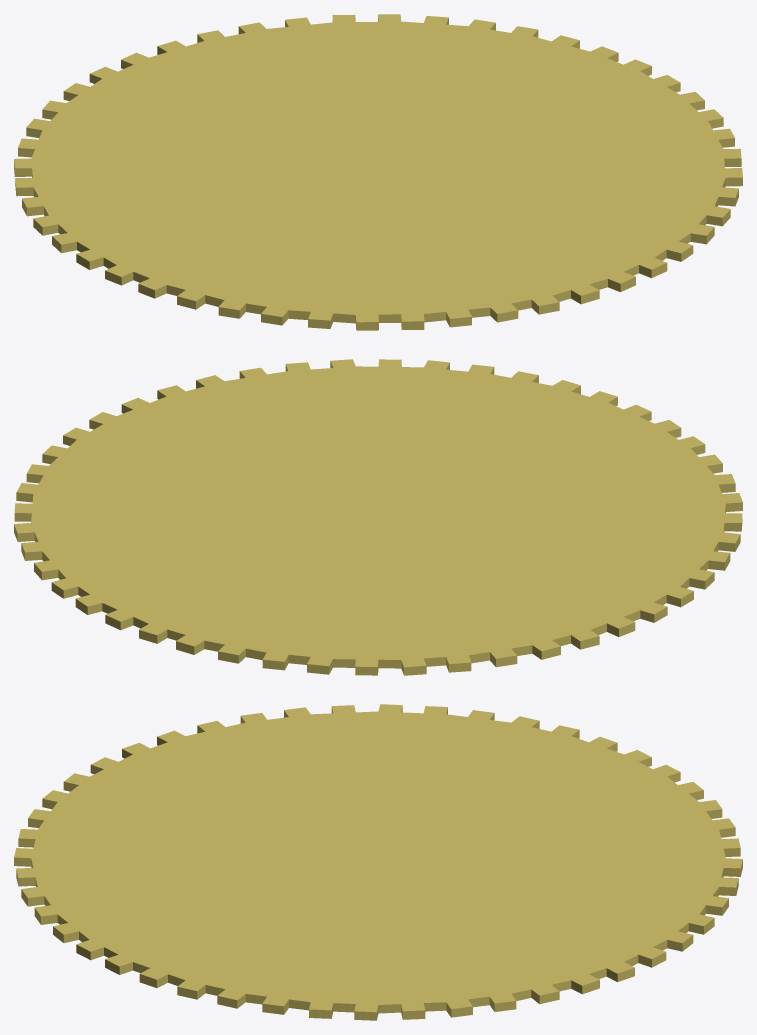
The model's file is gia.obj.
The picture shows the model from 3 angles, top to bottom: view 1: azimuth 30°, elevation 25°; view 2: azimuth 150°, elevation 25°; view 3: azimuth 270°, elevation 25°; orthographic projection.
Visible parts, largest first — view 1: 円柱.010; view 2: 円柱.010; view 3: 円柱.010.
Boxes of the visible parts, box(x1,y1,x2,y2) form: 円柱.010: box(14, 14, 742, 330); 円柱.010: box(14, 359, 742, 675); 円柱.010: box(14, 704, 742, 1020).
Size of the model in its own units: 1.13 by 0.0145 by 1.13.
